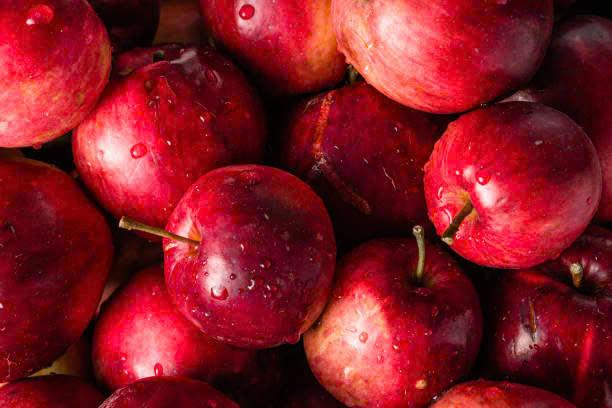apple: (160, 160, 332, 351), (428, 89, 602, 275), (301, 243, 480, 405), (0, 153, 109, 396), (333, 0, 567, 109), (1, 0, 115, 154), (199, 2, 349, 89)
